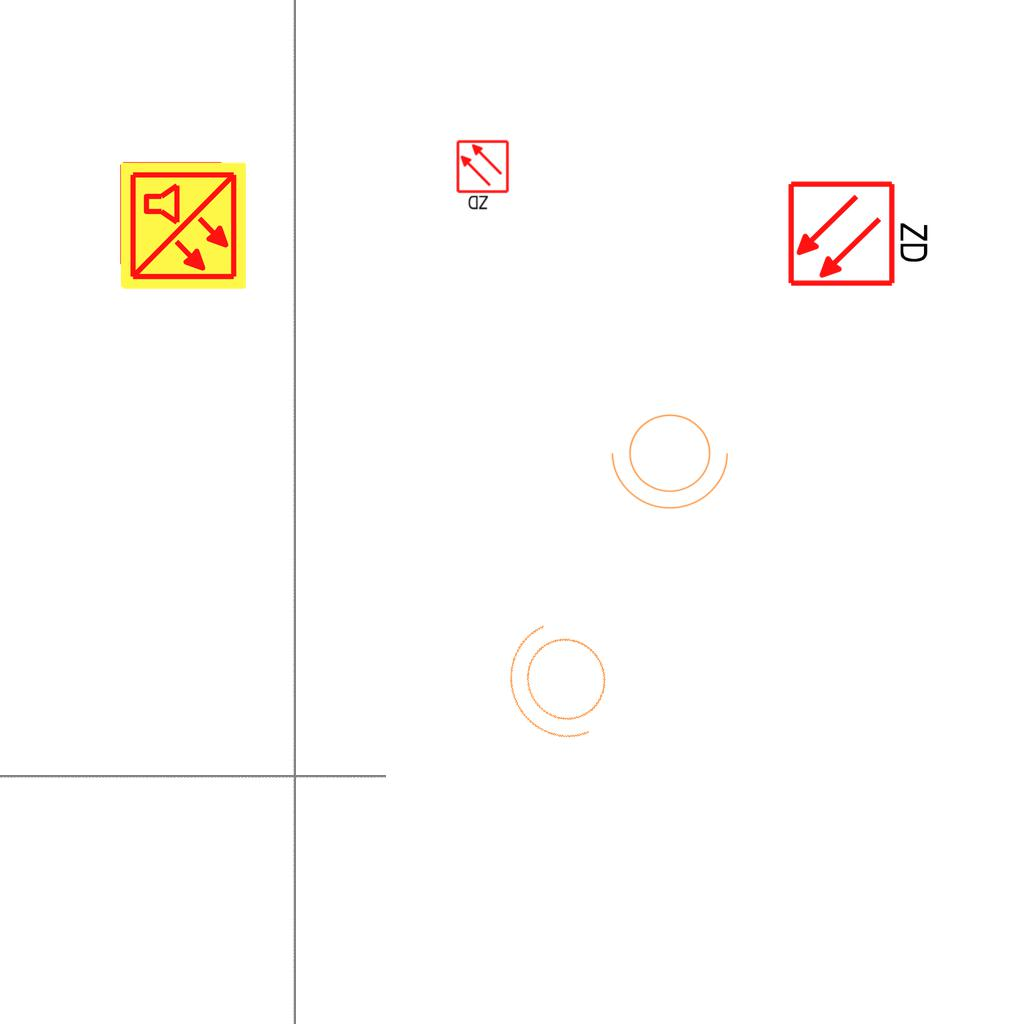OKW_Multisensormelder_(Kombination_optischer_Rauch-Kahlenmonoxid_Waerme-Melder): (117, 160, 249, 292)
Scheinwerfer_fuer_Alarmbeleuchtung: (485, 601, 641, 767), (607, 402, 739, 514)
ZD_Melder_in_Zwischendecke_mit_Revisionsoeffnung_mind_40_x_40_cm: (786, 175, 935, 289), (455, 139, 512, 213)
